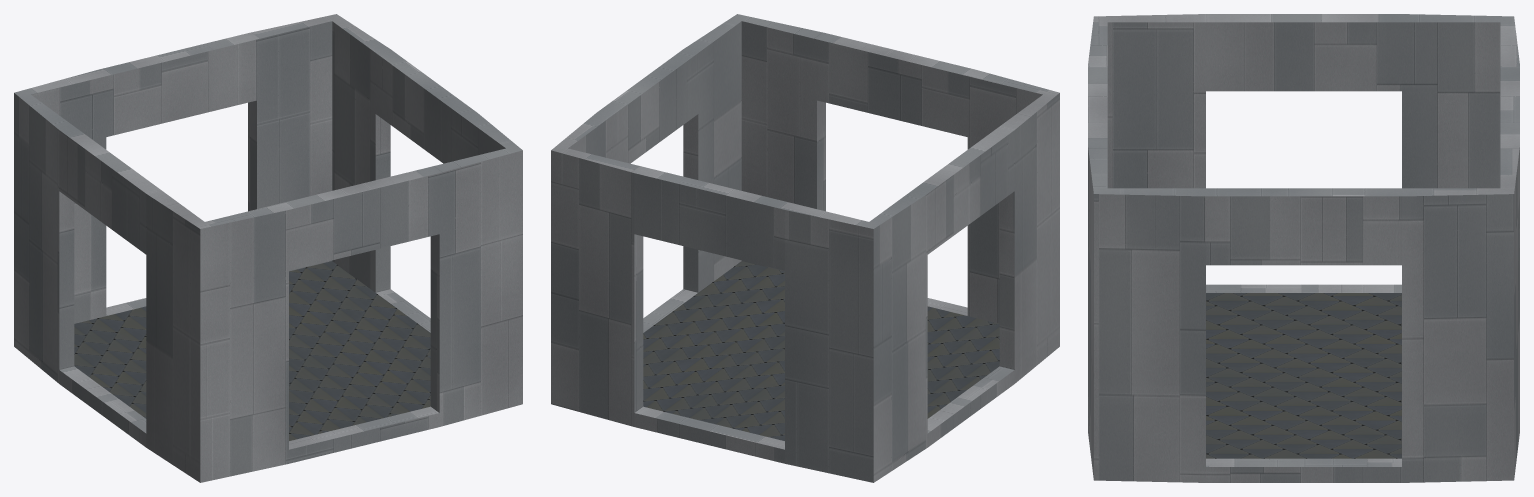
File: block.glb
3 views of the same model, side by side, from view 1: azimuth 30°, elevation 25°; view 2: azimuth 150°, elevation 25°; view 3: azimuth 270°, elevation 25° (orthographic). The views are drawn at different scales.
Parts seen in each view (by area): view 1: Block; view 2: Block; view 3: Block.
Part boxes in pixels (x1,y1,x2,y2): Block: (14,14,522,482); Block: (551,14,1059,482); Block: (1088,14,1519,482).
Bounding box in the file's own units: 4.4 × 3.22 × 4.4.
Materials: 2 (2 with a texture image).
